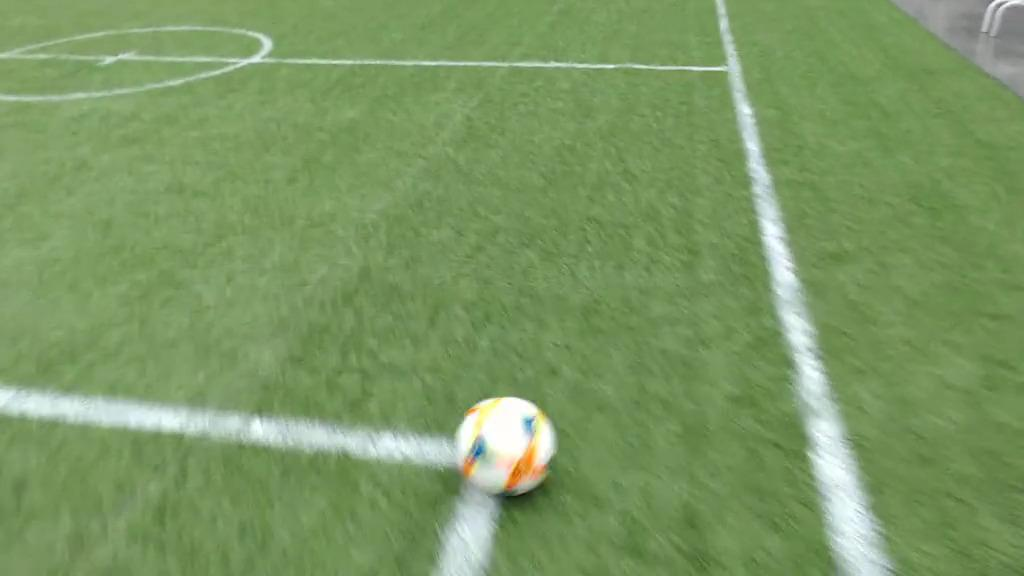ball: (455, 395, 556, 495)
